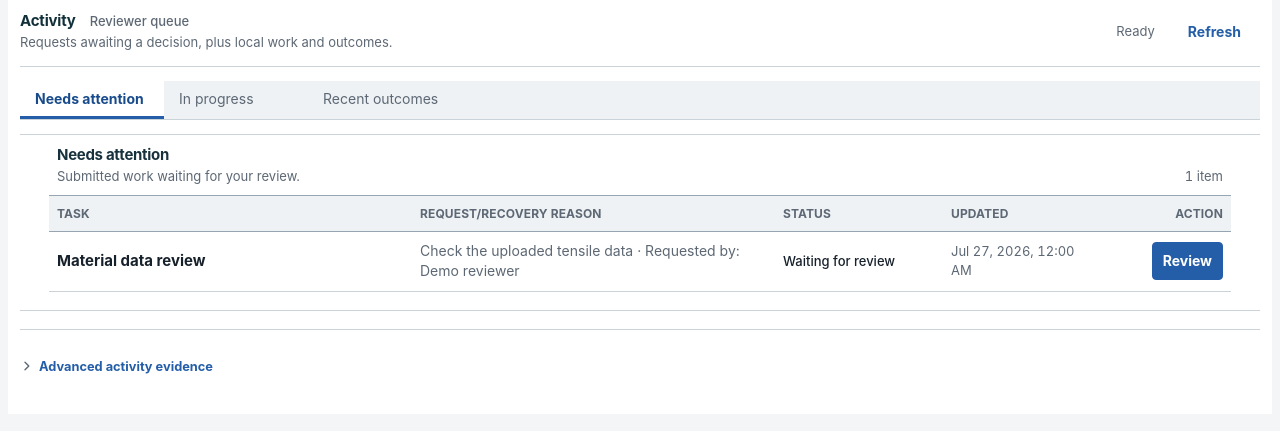
Scenario: Activity Modeling resume › uses the role-correct saved-view default and switches one active tabpanel at a time
Check: the number of panels is 1, box [49, 135, 1231, 292]
Step 1. Click the tab "Recent outcomes" → (381, 100), box [308, 81, 453, 119]
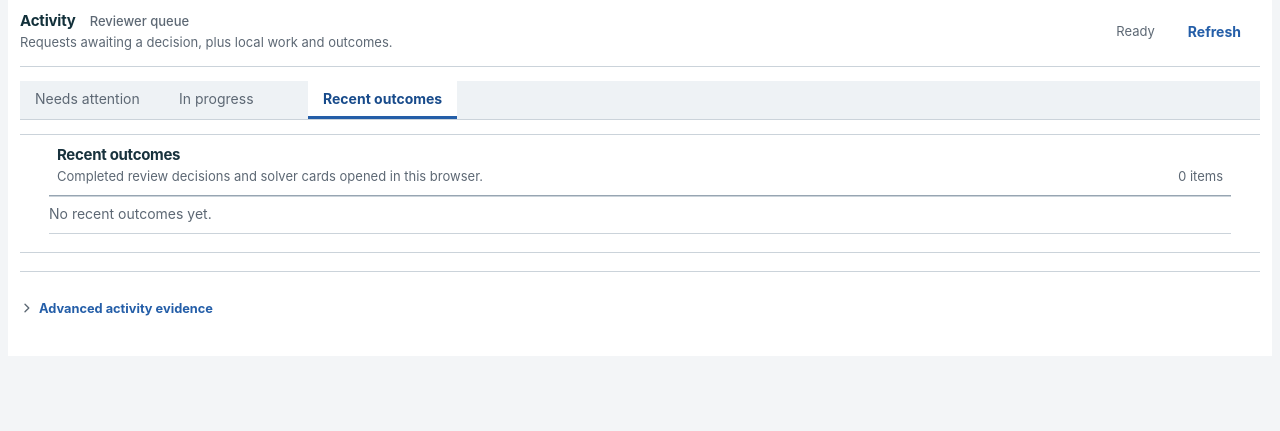
Check: the element named "Scrollable Activity queue" is shown, box [20, 135, 1260, 252]
Check: the number of panels is 1, box [49, 135, 1231, 234]
